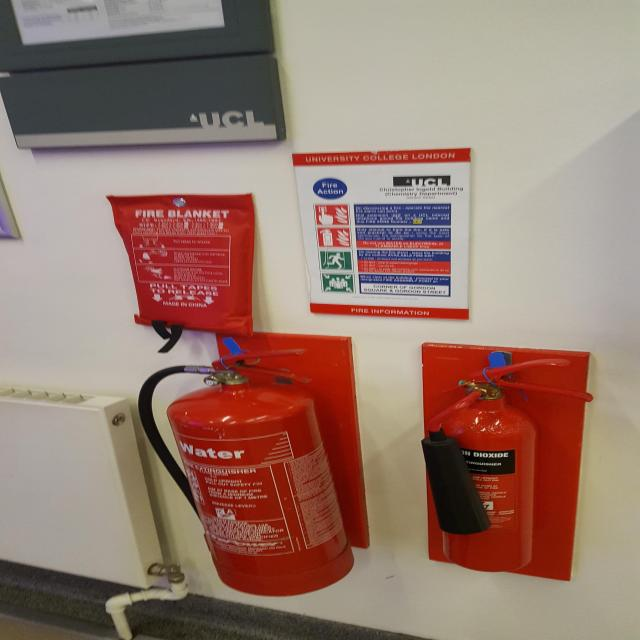fire_extinguisher: (132, 344, 358, 600), (418, 349, 602, 573)
